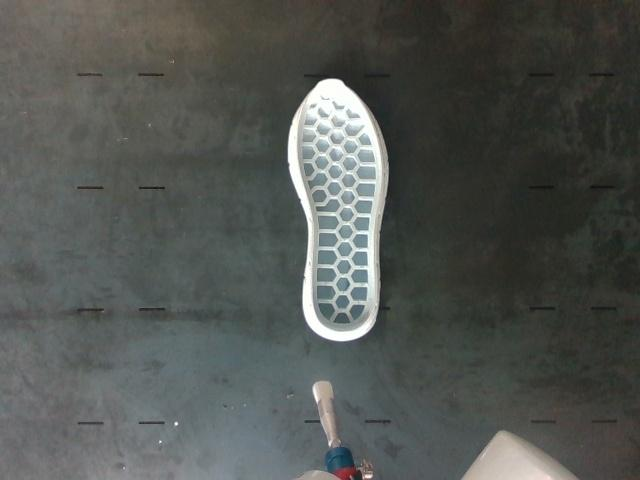shoes: (297, 80, 382, 333)
